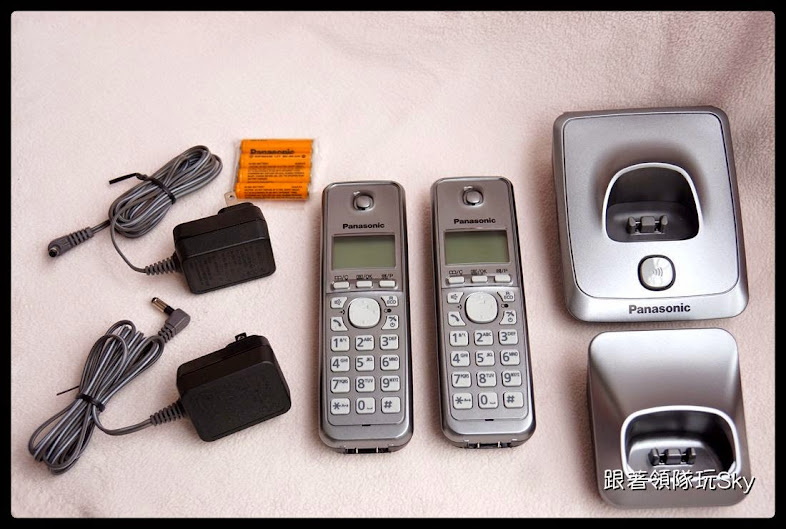telephone: (428, 176, 538, 452), (315, 178, 417, 456)
